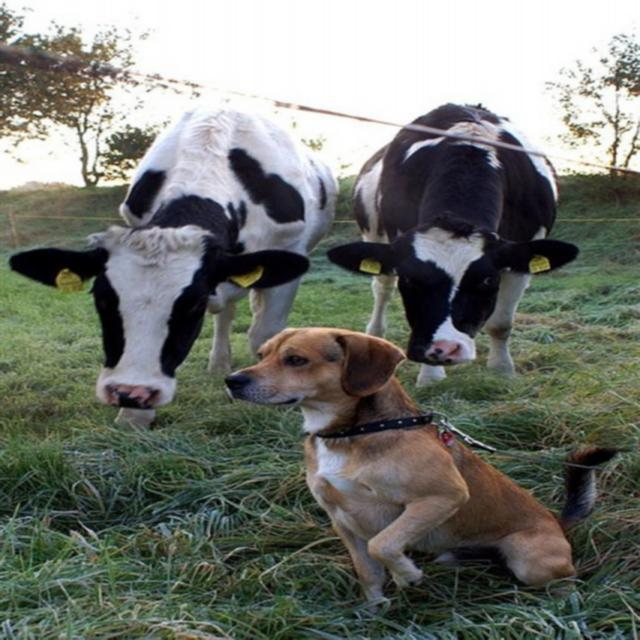dog: (219, 324, 635, 613)
